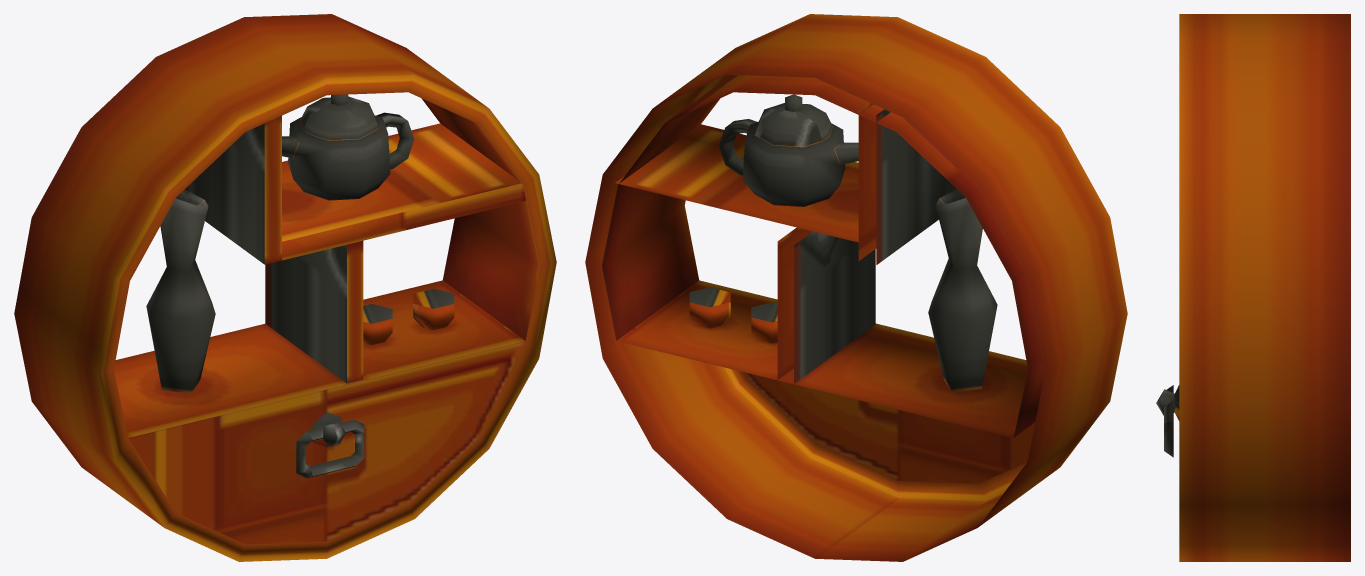
File: rmk_asi_wall.dae
The picture shows the model from 3 angles, left to right: view 1: azimuth 30°, elevation 25°; view 2: azimuth 150°, elevation 25°; view 3: azimuth 270°, elevation 25°; orthographic projection. The views are drawn at different scales.
Parts seen in each view (by area): view 1: bs_j_0_0; view 2: bs_j_0_0; view 3: bs_j_0_0.
Boxes of the visible parts, x1=… form: bs_j_0_0: x1=14, y1=14, x2=556, y2=561; bs_j_0_0: x1=585, y1=14, x2=1127, y2=561; bs_j_0_0: x1=1156, y1=14, x2=1350, y2=561.
Bounding box in the file's own units: 27.48 × 27.48 × 9.76.
1 material, 1 textured.
